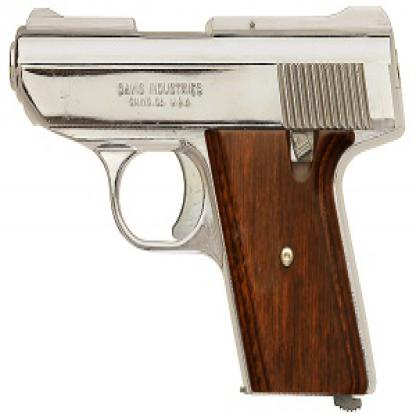Guns: (7, 0, 406, 410)
